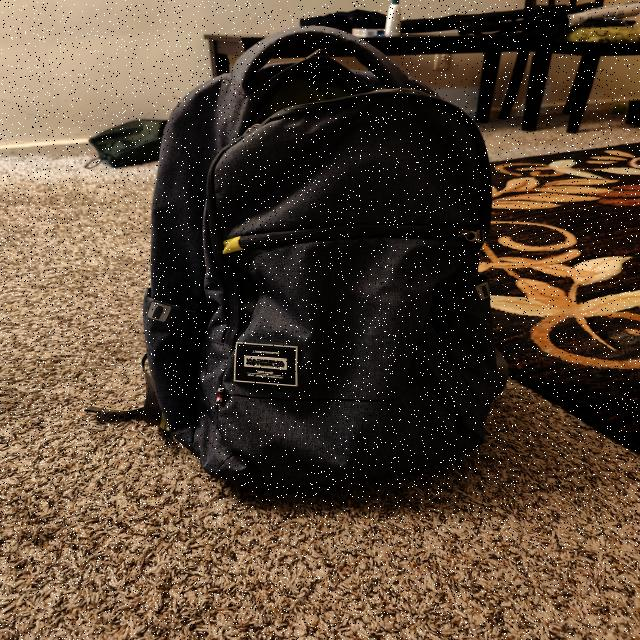bag: (154, 26, 475, 506)
